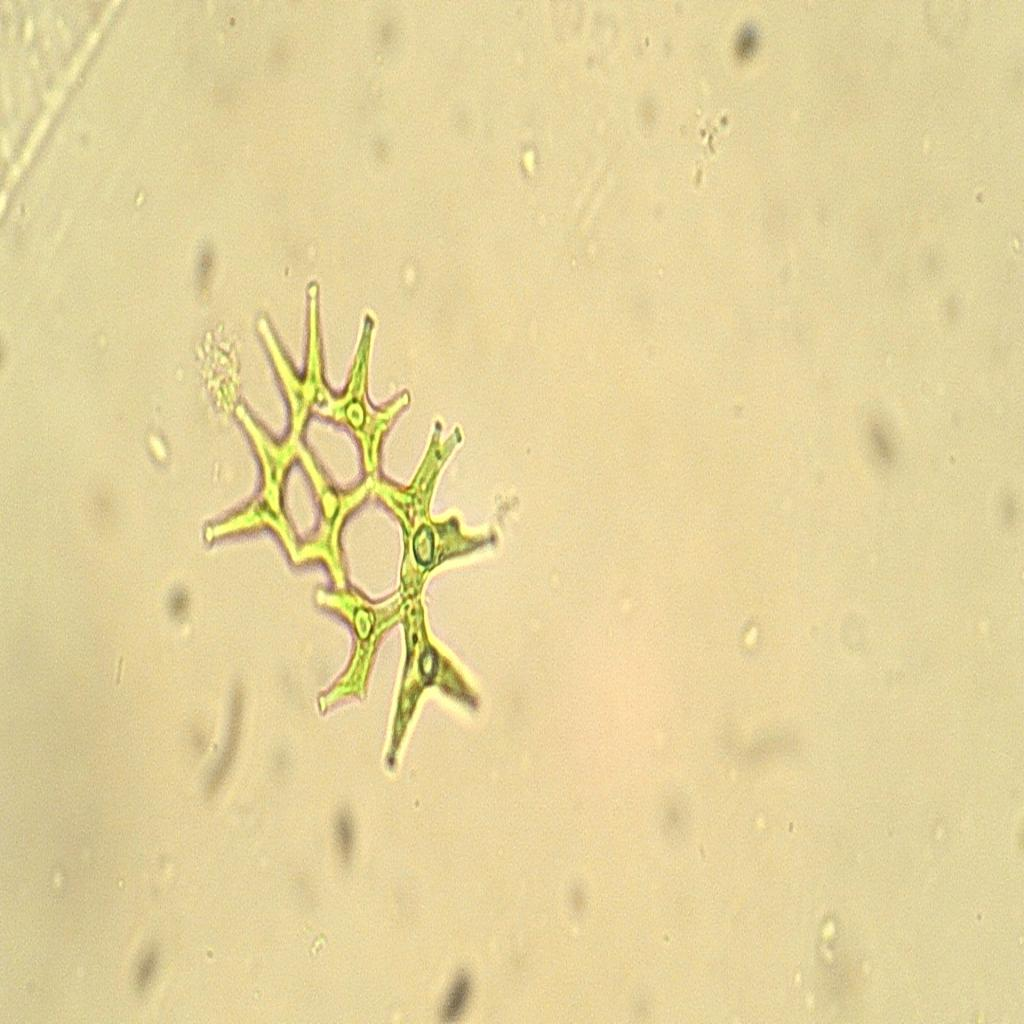Pediastrum_1TH: (194, 256, 519, 790)
